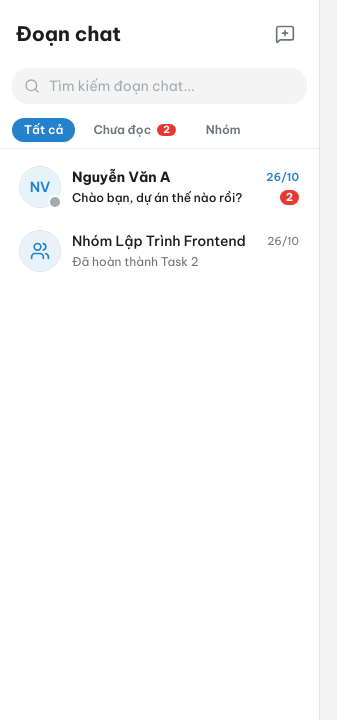
Test: ConversationSidebar Component Tests › filters by "Chưa đọc" tab correctly
Step 1. Click the button "Chưa đọc 2" → {"x": 135, "y": 130}, box [81,118,188,142]
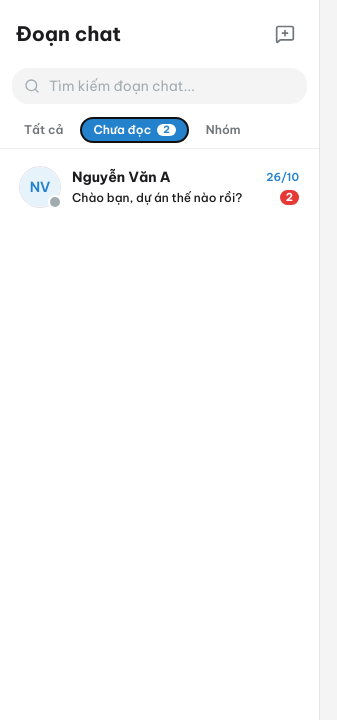
Expected: the heading "Nguyễn Văn A" is shown, [72,168,170,188]
Expected: the option "Nhóm Lập Trình Frontend" is gone
